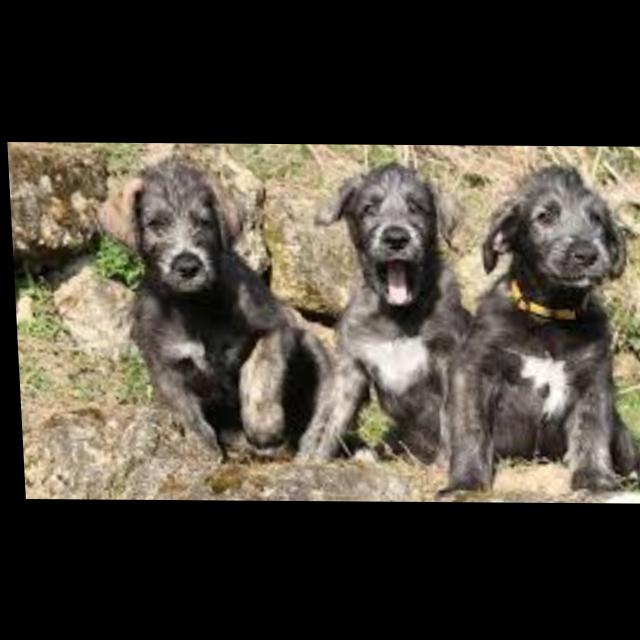other_dog_breed: (93, 152, 342, 465), (421, 160, 640, 498), (279, 159, 478, 469)
